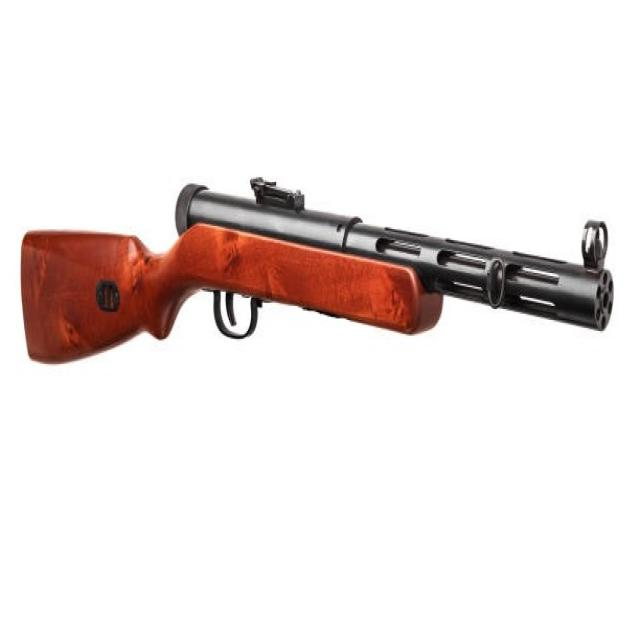rifle: (14, 166, 620, 396)
